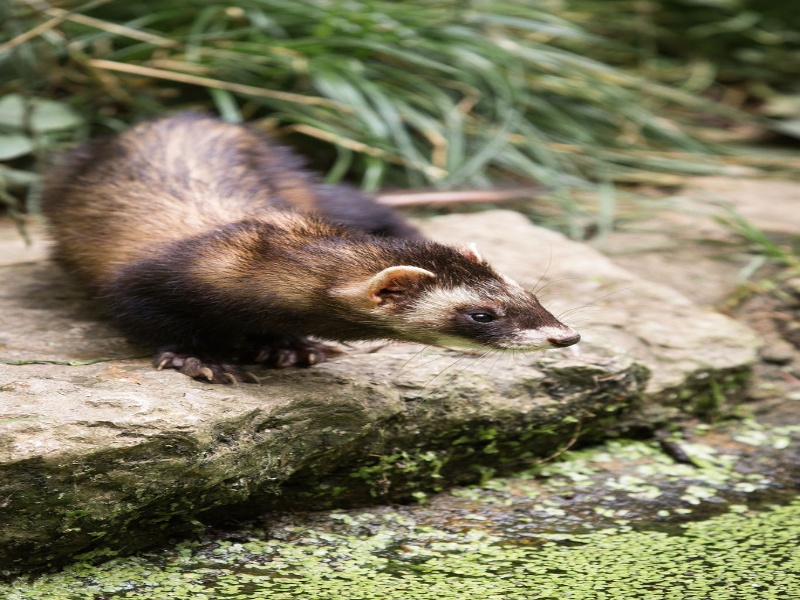minkish: (49, 120, 584, 390)
